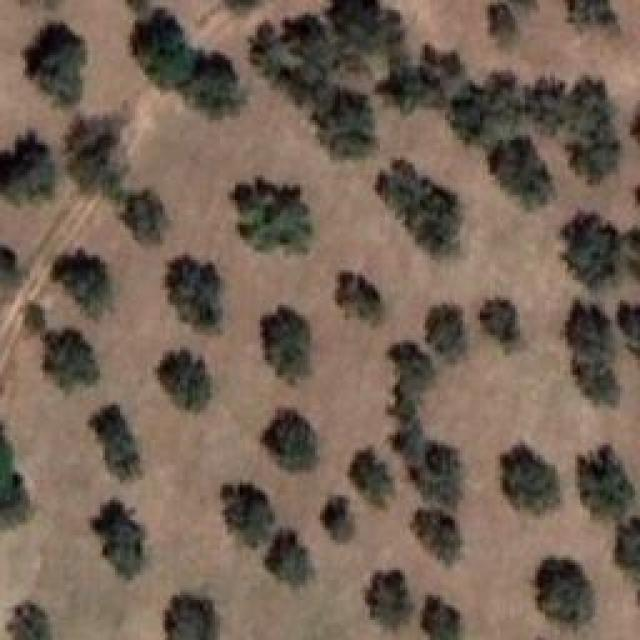Tree: (130, 10, 244, 118), (375, 160, 459, 256), (253, 12, 337, 101), (235, 177, 313, 252), (568, 78, 622, 185), (565, 300, 616, 405), (23, 23, 86, 104), (325, 0, 401, 67), (68, 118, 129, 199), (488, 138, 553, 208), (313, 88, 377, 159), (562, 213, 620, 290), (93, 500, 147, 581), (578, 445, 634, 522), (500, 445, 560, 515), (535, 558, 594, 629), (168, 255, 223, 331), (0, 130, 55, 203), (53, 250, 112, 318), (88, 405, 139, 482), (263, 305, 312, 385), (522, 73, 581, 139), (383, 57, 448, 116), (263, 410, 318, 472), (43, 330, 98, 392), (158, 350, 212, 412), (223, 482, 274, 547), (410, 443, 459, 510), (0, 422, 29, 526), (365, 570, 414, 630), (413, 510, 464, 566), (265, 530, 315, 587), (350, 447, 394, 507), (122, 190, 170, 245), (450, 83, 490, 144), (425, 308, 468, 364), (615, 518, 640, 605), (167, 599, 218, 640), (388, 344, 434, 388), (338, 273, 377, 324), (423, 595, 462, 640), (8, 602, 53, 640), (482, 300, 520, 342), (320, 495, 354, 541), (568, 0, 619, 26), (617, 302, 640, 343), (490, 5, 518, 38), (20, 300, 48, 332), (0, 247, 19, 294)
